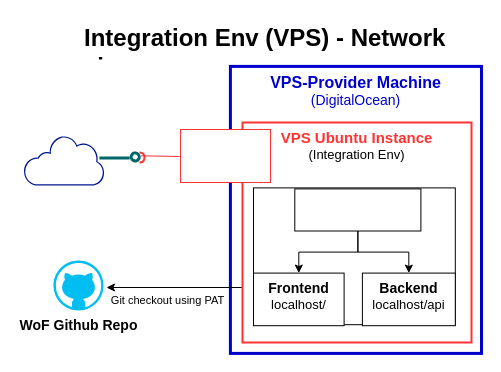
Some shapes in this 501 by 372 pixel diagram are drawn without their labels. Each missing label, with the centre of its shape:
Internet Users: pixel 63 160
NginX Webserver Port 80/443: pixel 357 209
Port 80/443 Public IP https://wof.com: pixel 225 155
